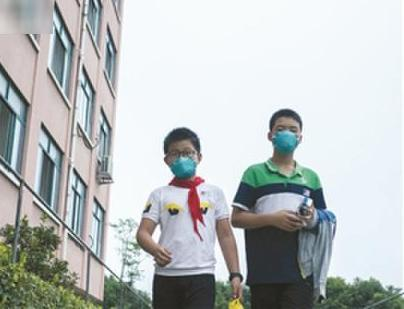yes_mask: (161, 125, 202, 183), (266, 109, 305, 156)
